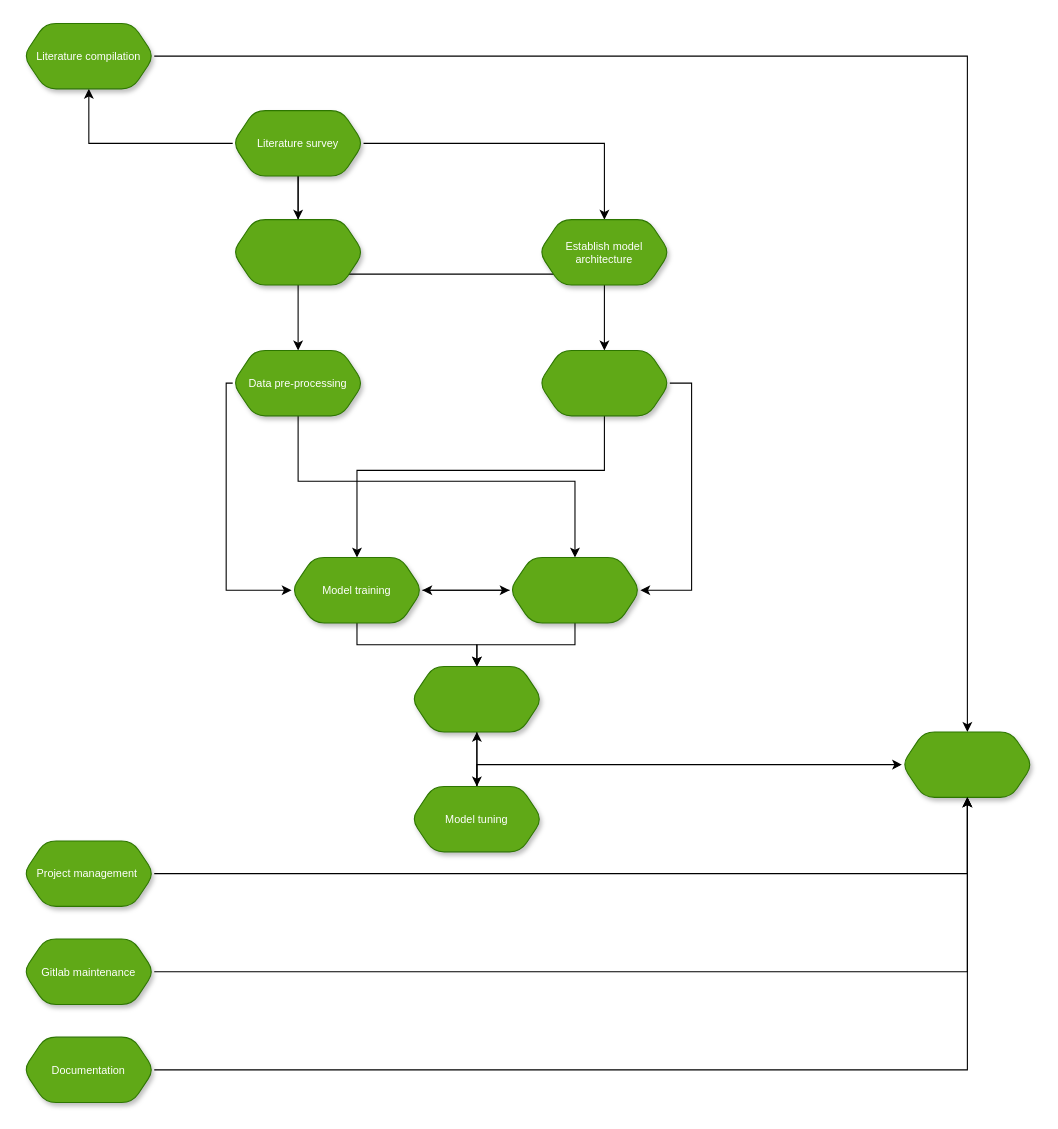
Image size: 1058x1129. Some labels were removed from this diagram. The shapes that lost their labels are listed below. From the top down, each one's centre as x and y in pixels, then its label:
[298,253]: Identifying data source
[605,384]: Build base model
[575,591]: Model testing
[477,700]: Performance evaluation
[968,765]: Report & final presentation
